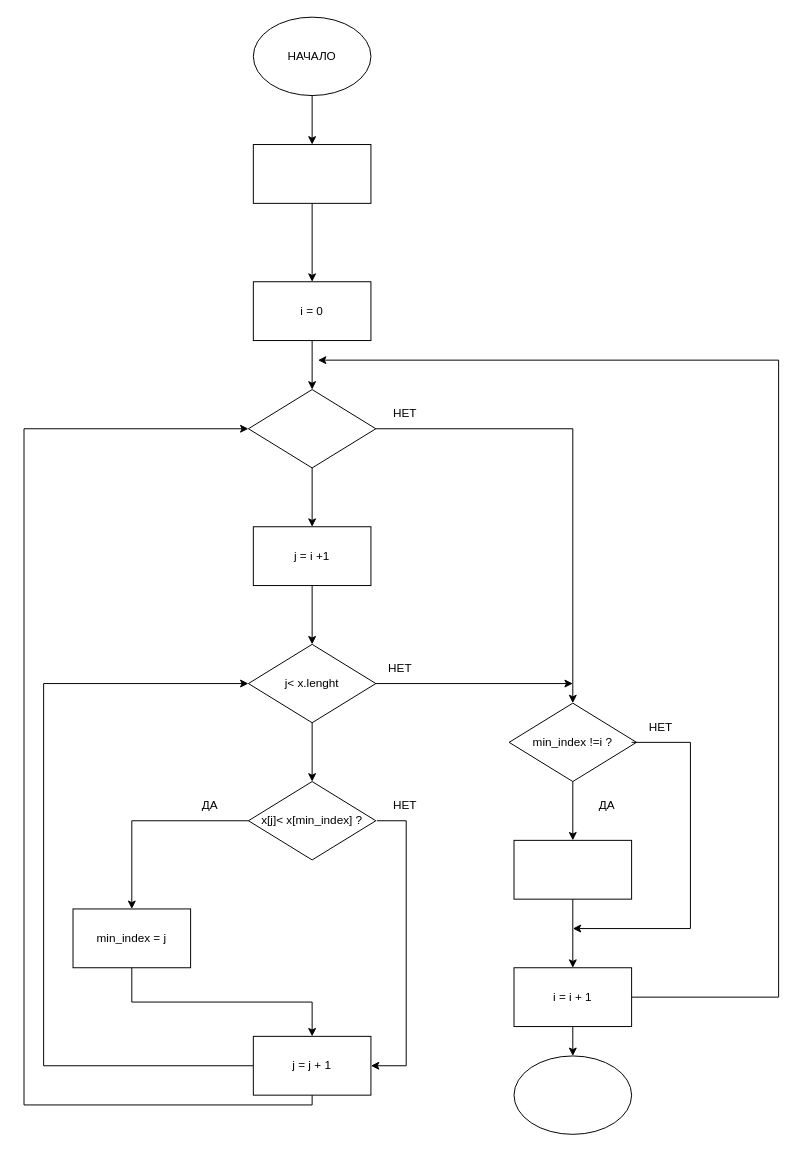
This 804x1152 diagram has some shape labels left out. The box of each missing label's shape, as (x1, y1, x2, y2) in pixels:
i < x.index - 1 ?: (247, 389, 376, 468)
save = x[j] x[i] = x[min_index] x[min_index]=save: (513, 839, 632, 899)
КОНЕЦ: (513, 1055, 632, 1134)
МАССИВ x[]: (252, 144, 371, 203)
